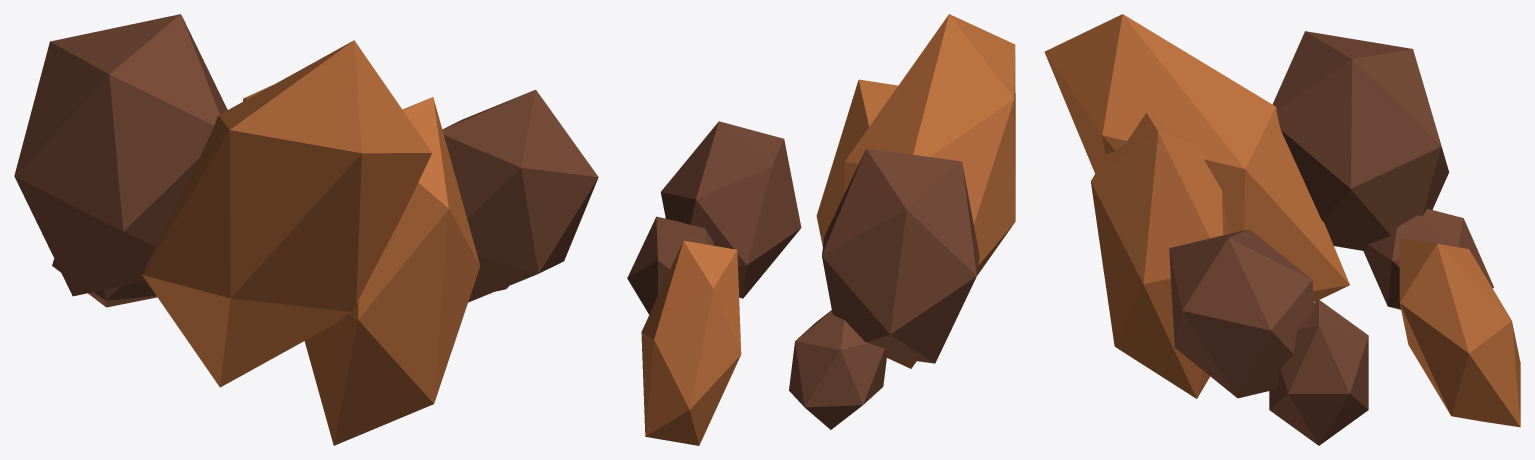
Rendered from boundary-cluster.glb.
3 renders of one model, left to right at view 1: azimuth 30°, elevation 25°; view 2: azimuth 150°, elevation 25°; view 3: azimuth 270°, elevation 25°, orthographic. The views are drawn at different scales.
Parts seen in each view (by area): view 1: rock_5, rock_2, rock_1, rock_4, rock_6; view 2: rock_2, rock_5, rock_3, rock_4, rock_6, rock_1, rock_0; view 3: rock_5, rock_2, rock_1, rock_4, rock_3, rock_0, rock_6.
Boxes of the visible parts, x1,y1,x2,y2 form: rock_5: (142, 40, 431, 387); rock_2: (14, 14, 227, 296); rock_1: (304, 97, 480, 445); rock_4: (442, 89, 598, 302); rock_6: (52, 259, 156, 307); rock_2: (822, 148, 979, 363); rock_5: (844, 14, 1015, 368); rock_3: (641, 240, 741, 445); rock_4: (660, 121, 801, 298); rock_6: (789, 310, 887, 429); rock_1: (816, 79, 897, 246); rock_0: (627, 216, 714, 314); rock_5: (1044, 14, 1349, 302); rock_2: (1272, 31, 1449, 250); rock_1: (1091, 112, 1228, 398); rock_4: (1169, 229, 1314, 398); rock_3: (1399, 238, 1520, 427); rock_0: (1269, 300, 1368, 445); rock_6: (1363, 208, 1493, 309).
Size of what is drawn, in the model's own units: 2.44 by 2.15 by 2.56.
